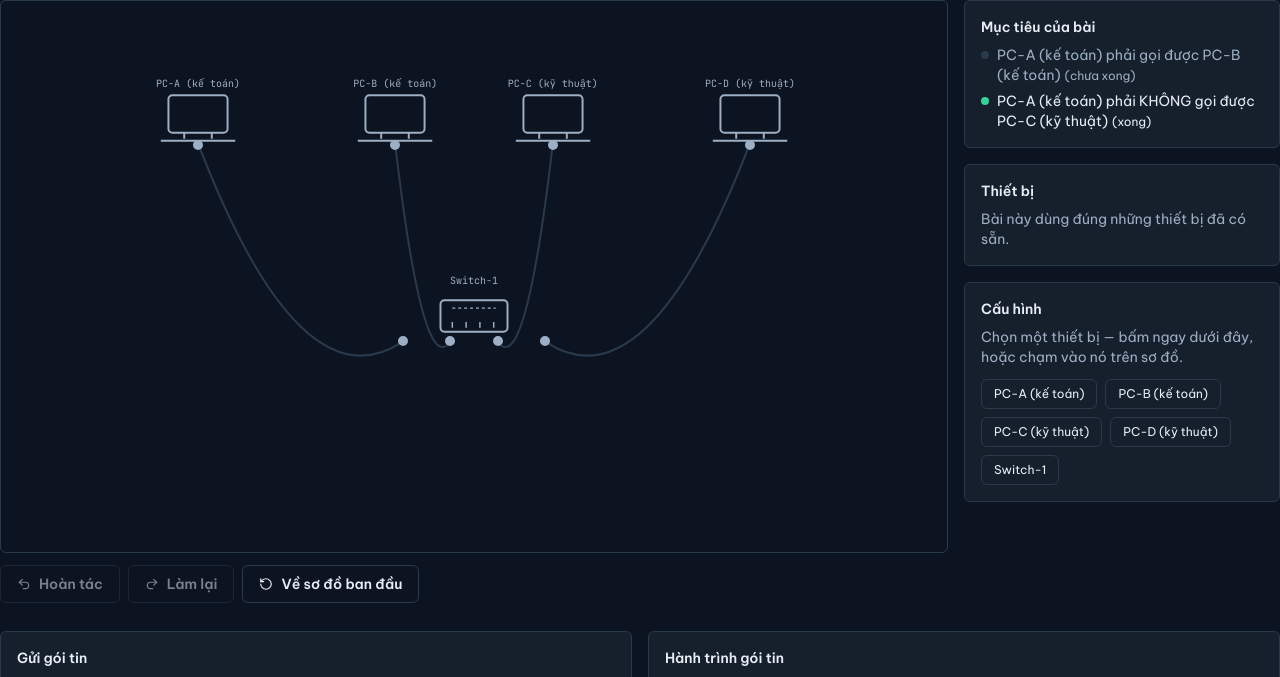
Scenario: hoàn tác › về sơ đồ ban đầu, và CHÍNH NÓ cũng hoàn tác được
The image size is (1280, 677).
Click the 1st button "Switch-1" at (474, 316), box [437,290,512,341]
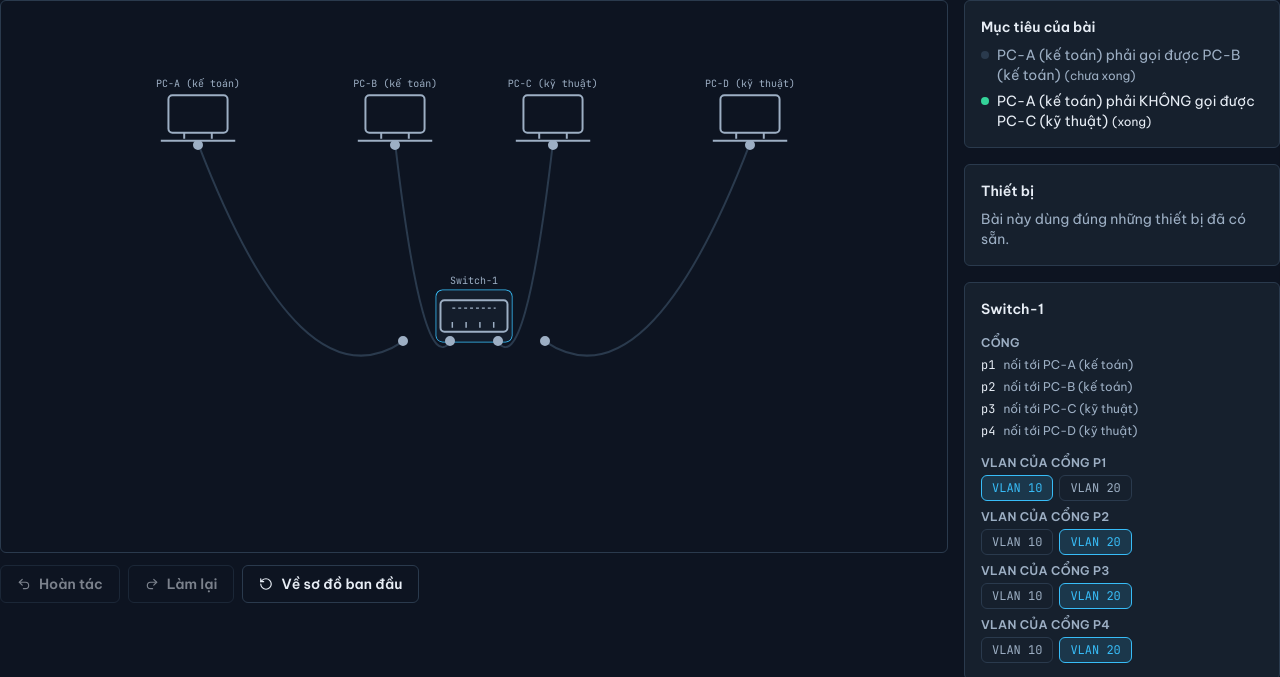
Click the radio button labelled "VLAN 10" below "VLAN của cổng p2" at (1017, 542), box [981,529,1053,555]
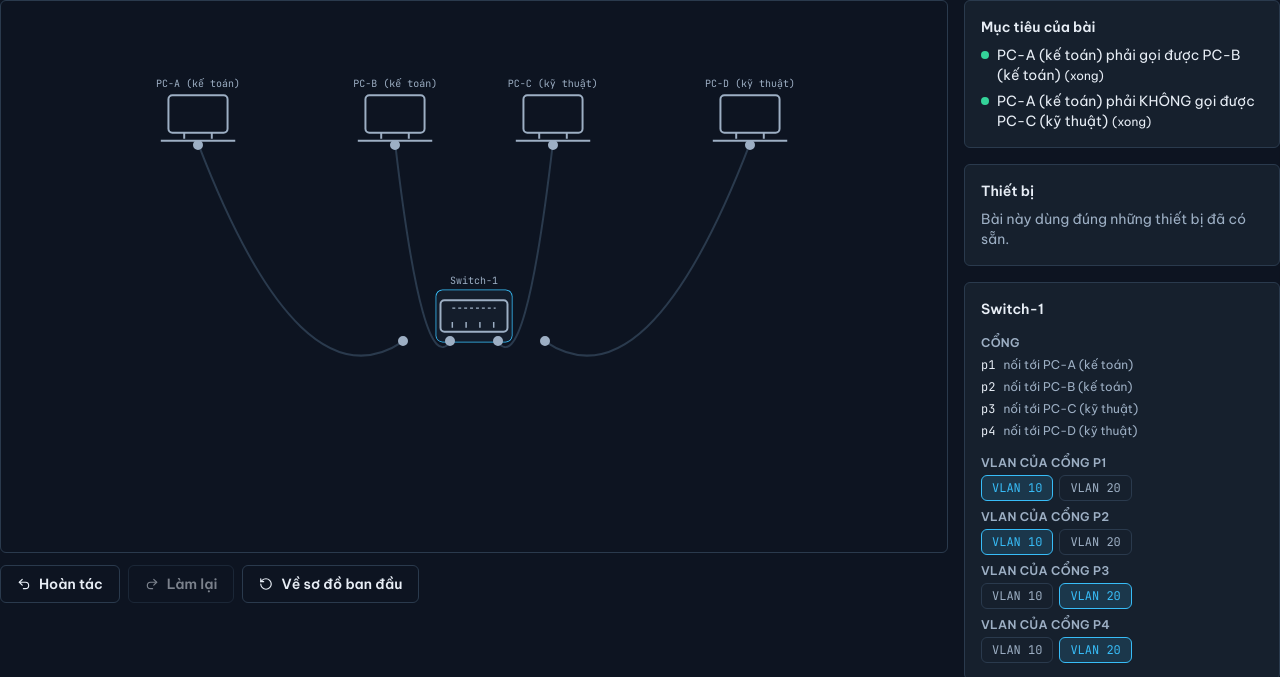
Click the button "Về sơ đồ ban đầu" at (331, 584), box [242,565,419,603]
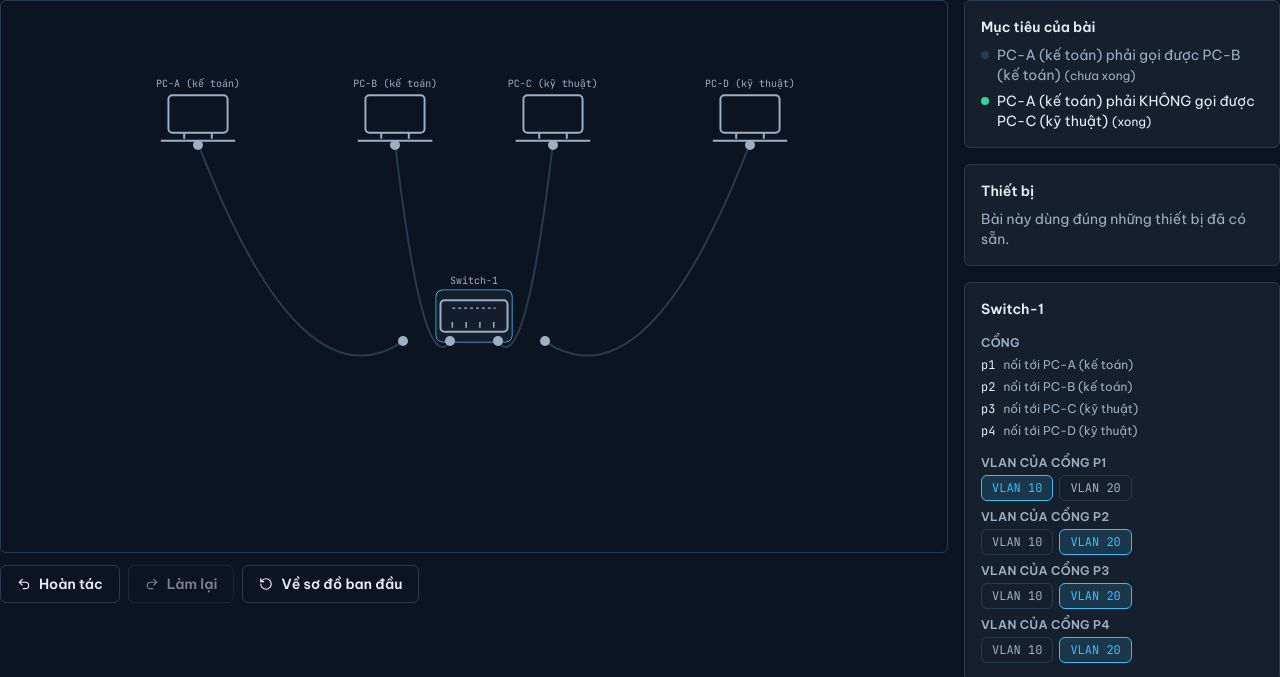
Expected: the text "(chưa xong)" is shown once, [1065,68,1136,83]
Click the button "Hoàn tác" at (60, 584), box [0,565,120,603]
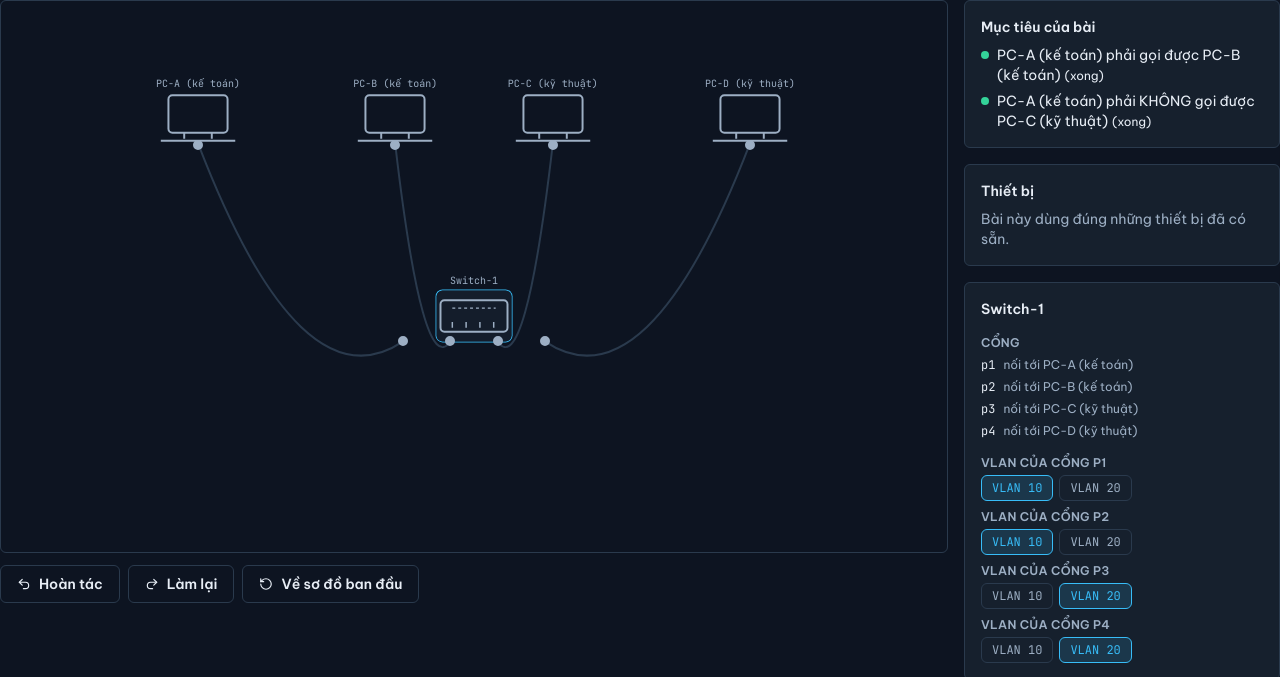
Now the text "(chưa xong)" is not shown
